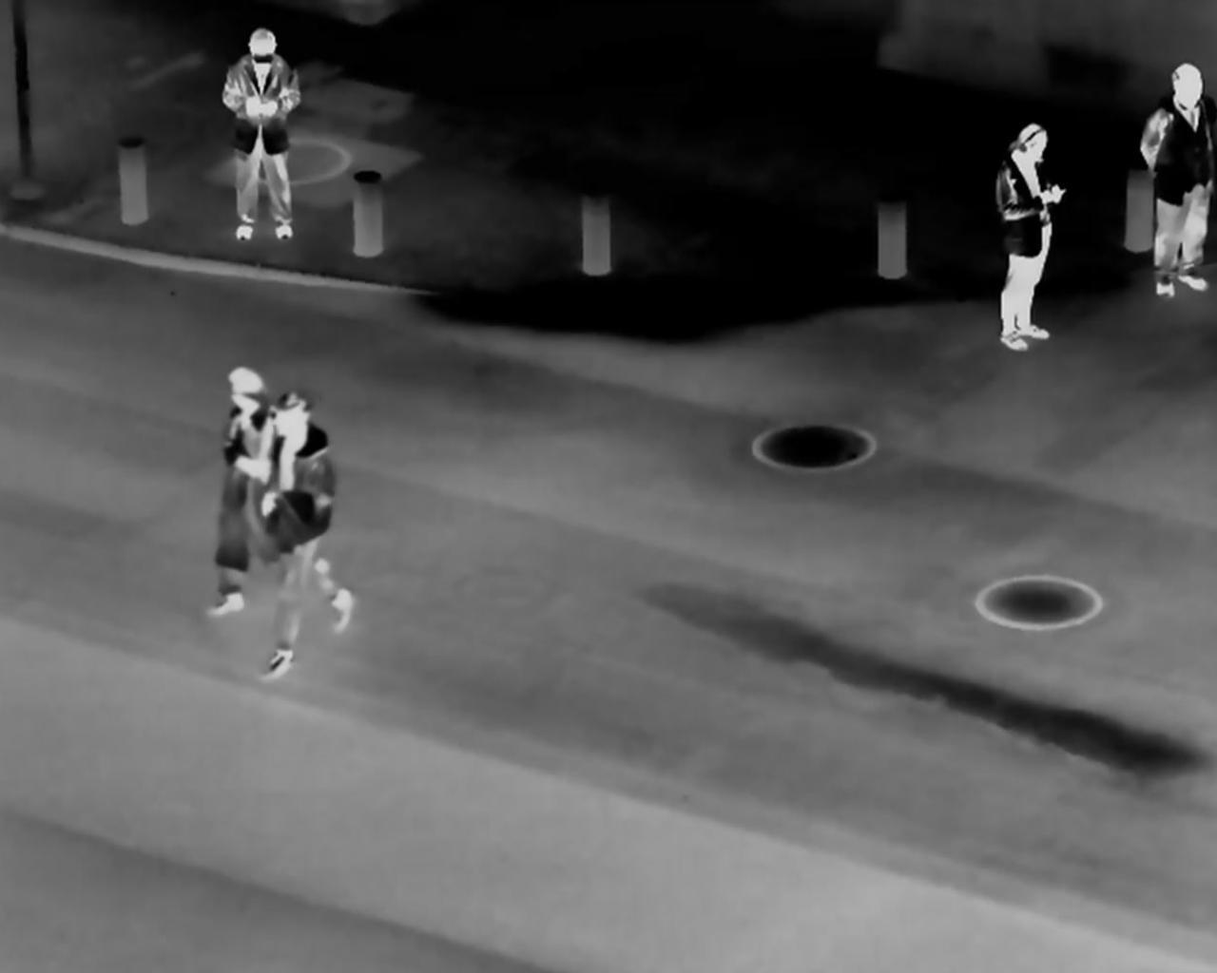person: (254, 391, 360, 677), (207, 16, 324, 251), (976, 108, 1065, 356), (1134, 51, 1216, 302), (206, 363, 274, 611)
